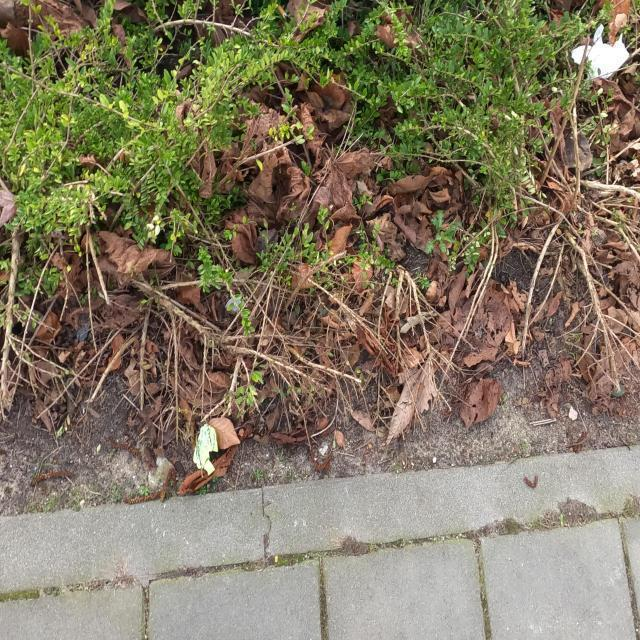Paper: (570, 24, 630, 80)
Plastic: (193, 423, 219, 476)
